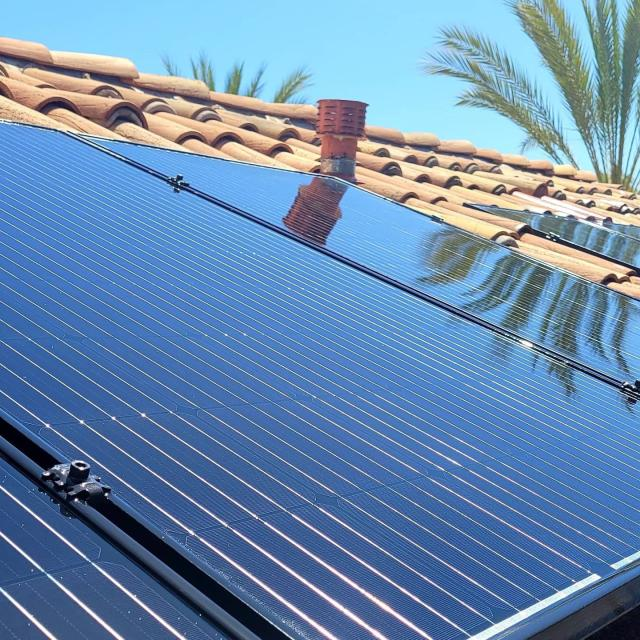clean-solar-panel: (1, 122, 640, 640)
